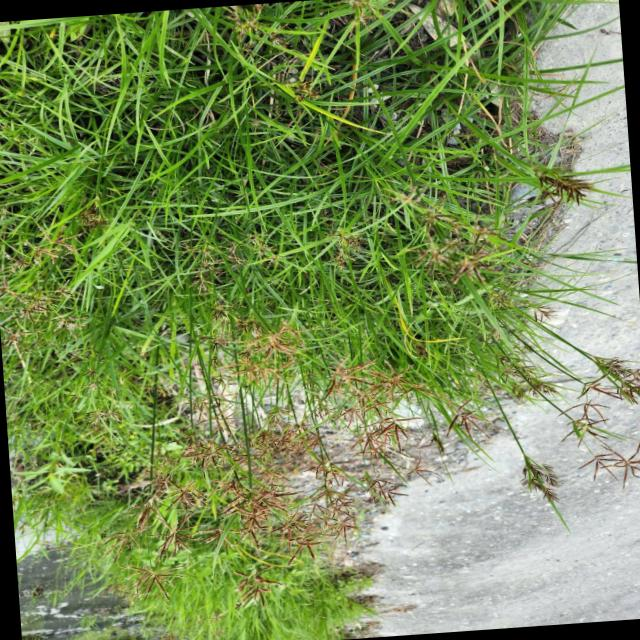cyperus: (205, 472, 366, 609), (103, 476, 201, 606), (392, 186, 511, 288), (0, 223, 89, 359), (330, 354, 444, 426), (346, 409, 438, 487), (567, 399, 640, 491), (248, 404, 324, 486), (222, 316, 303, 392), (164, 426, 246, 481), (194, 298, 242, 391), (70, 349, 122, 432), (573, 356, 640, 410), (301, 487, 364, 544), (498, 348, 559, 406), (522, 447, 560, 521), (443, 389, 490, 446), (354, 464, 406, 511), (178, 386, 236, 428), (540, 170, 604, 208), (322, 352, 368, 399), (234, 228, 282, 270), (181, 244, 217, 298), (324, 228, 362, 274), (531, 300, 559, 324), (488, 288, 516, 312), (220, 244, 240, 274)
